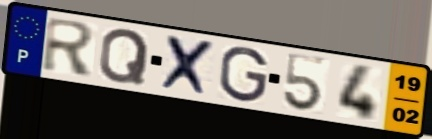4: (335, 62, 383, 124)
5: (280, 50, 333, 114)
G: (217, 45, 270, 104)
Q: (96, 27, 152, 85)
R: (39, 15, 97, 78)
X: (158, 33, 220, 100)
